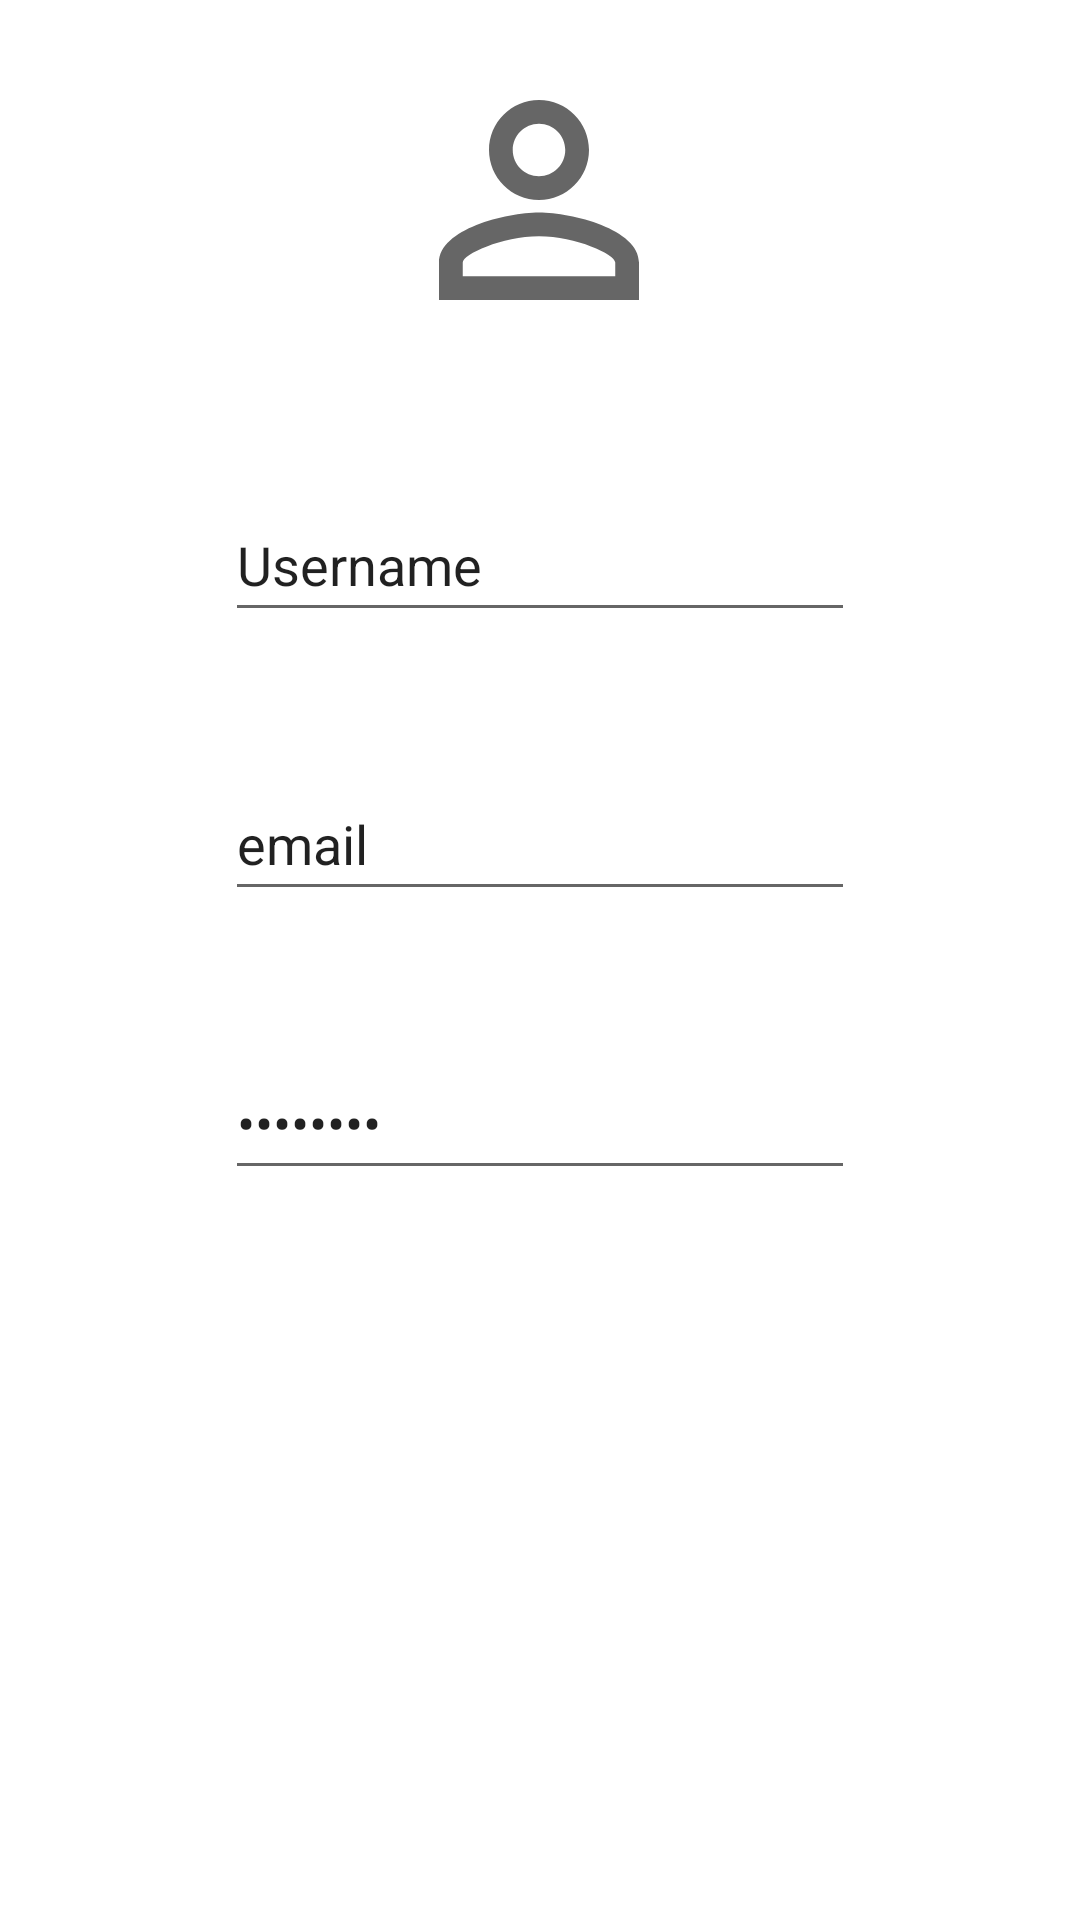

Screen size 1080px x 1920px. Icon name, then its center in pixels as (x=x, y=y):
person: (x=539, y=200)
